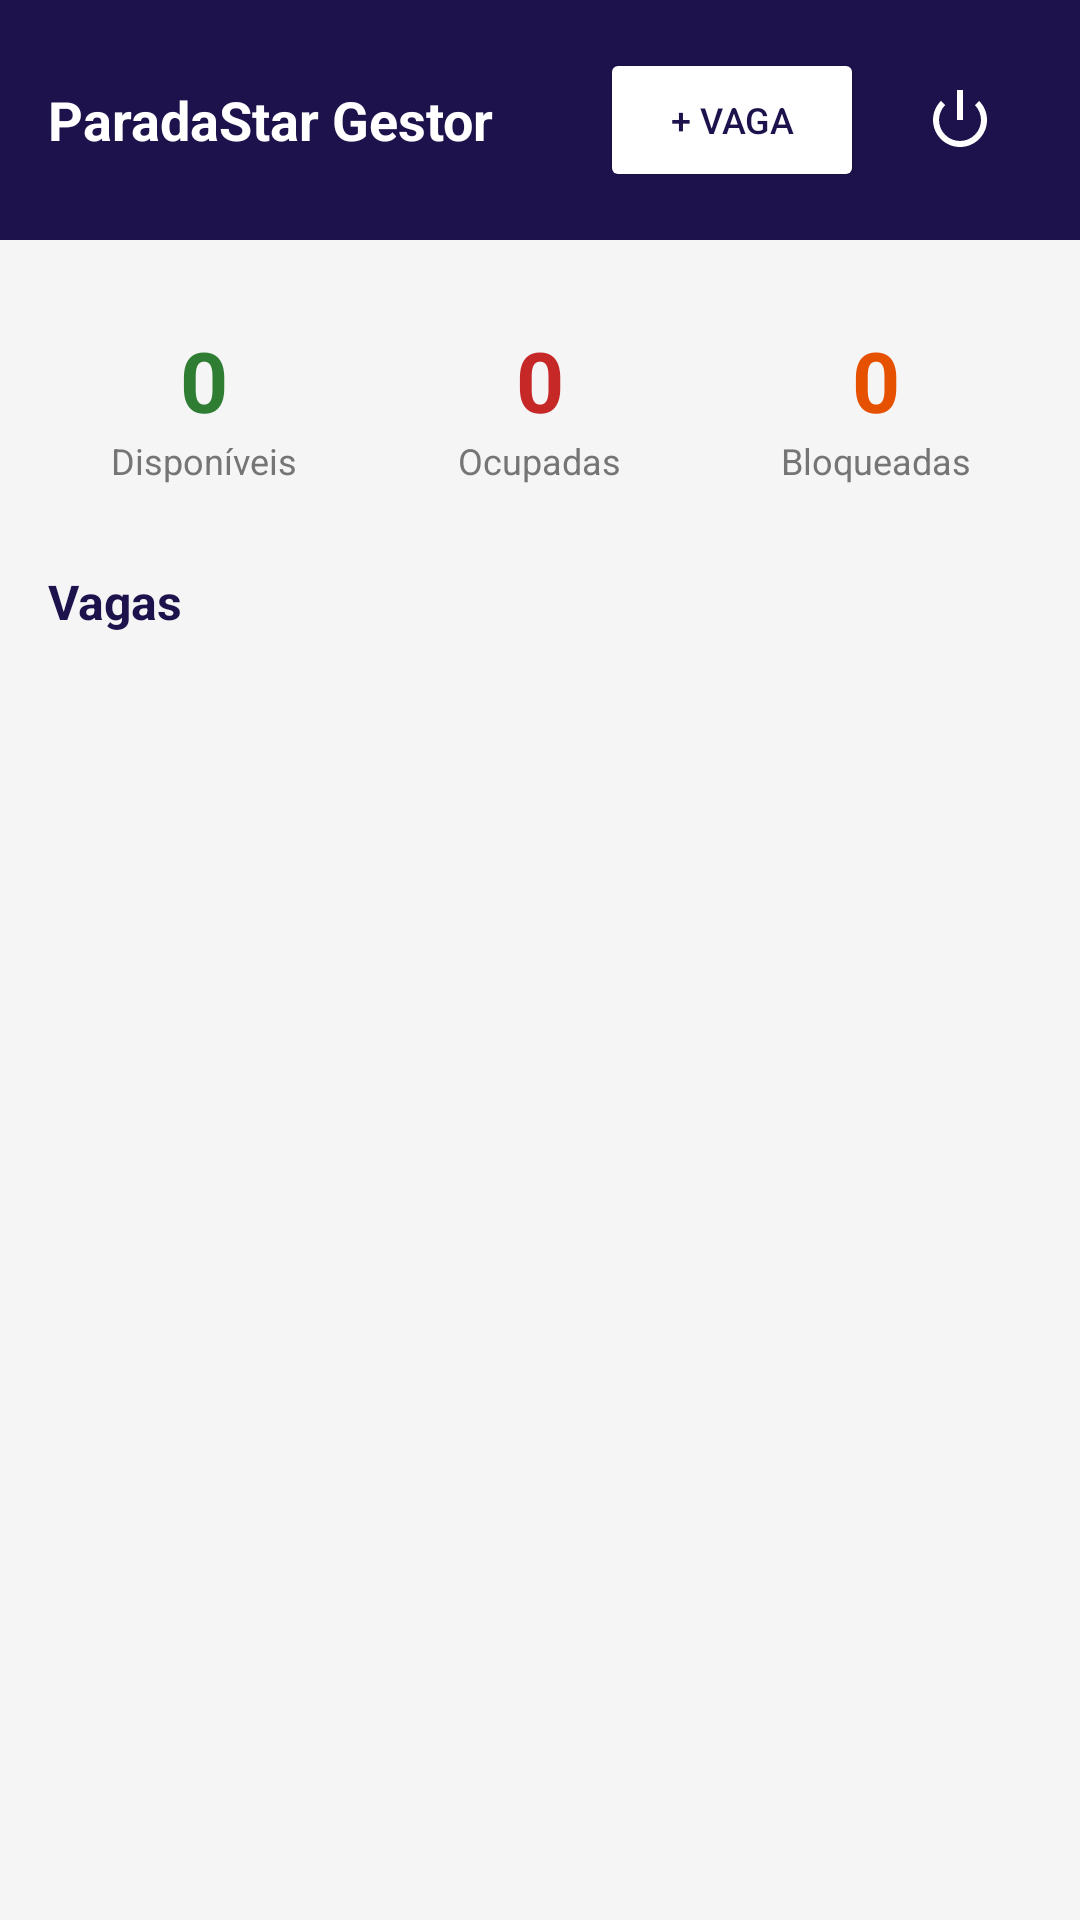

Screen size 1080 x 1920. Icon name, then its center in pixels as (x,y):
Sair: (960,118)
